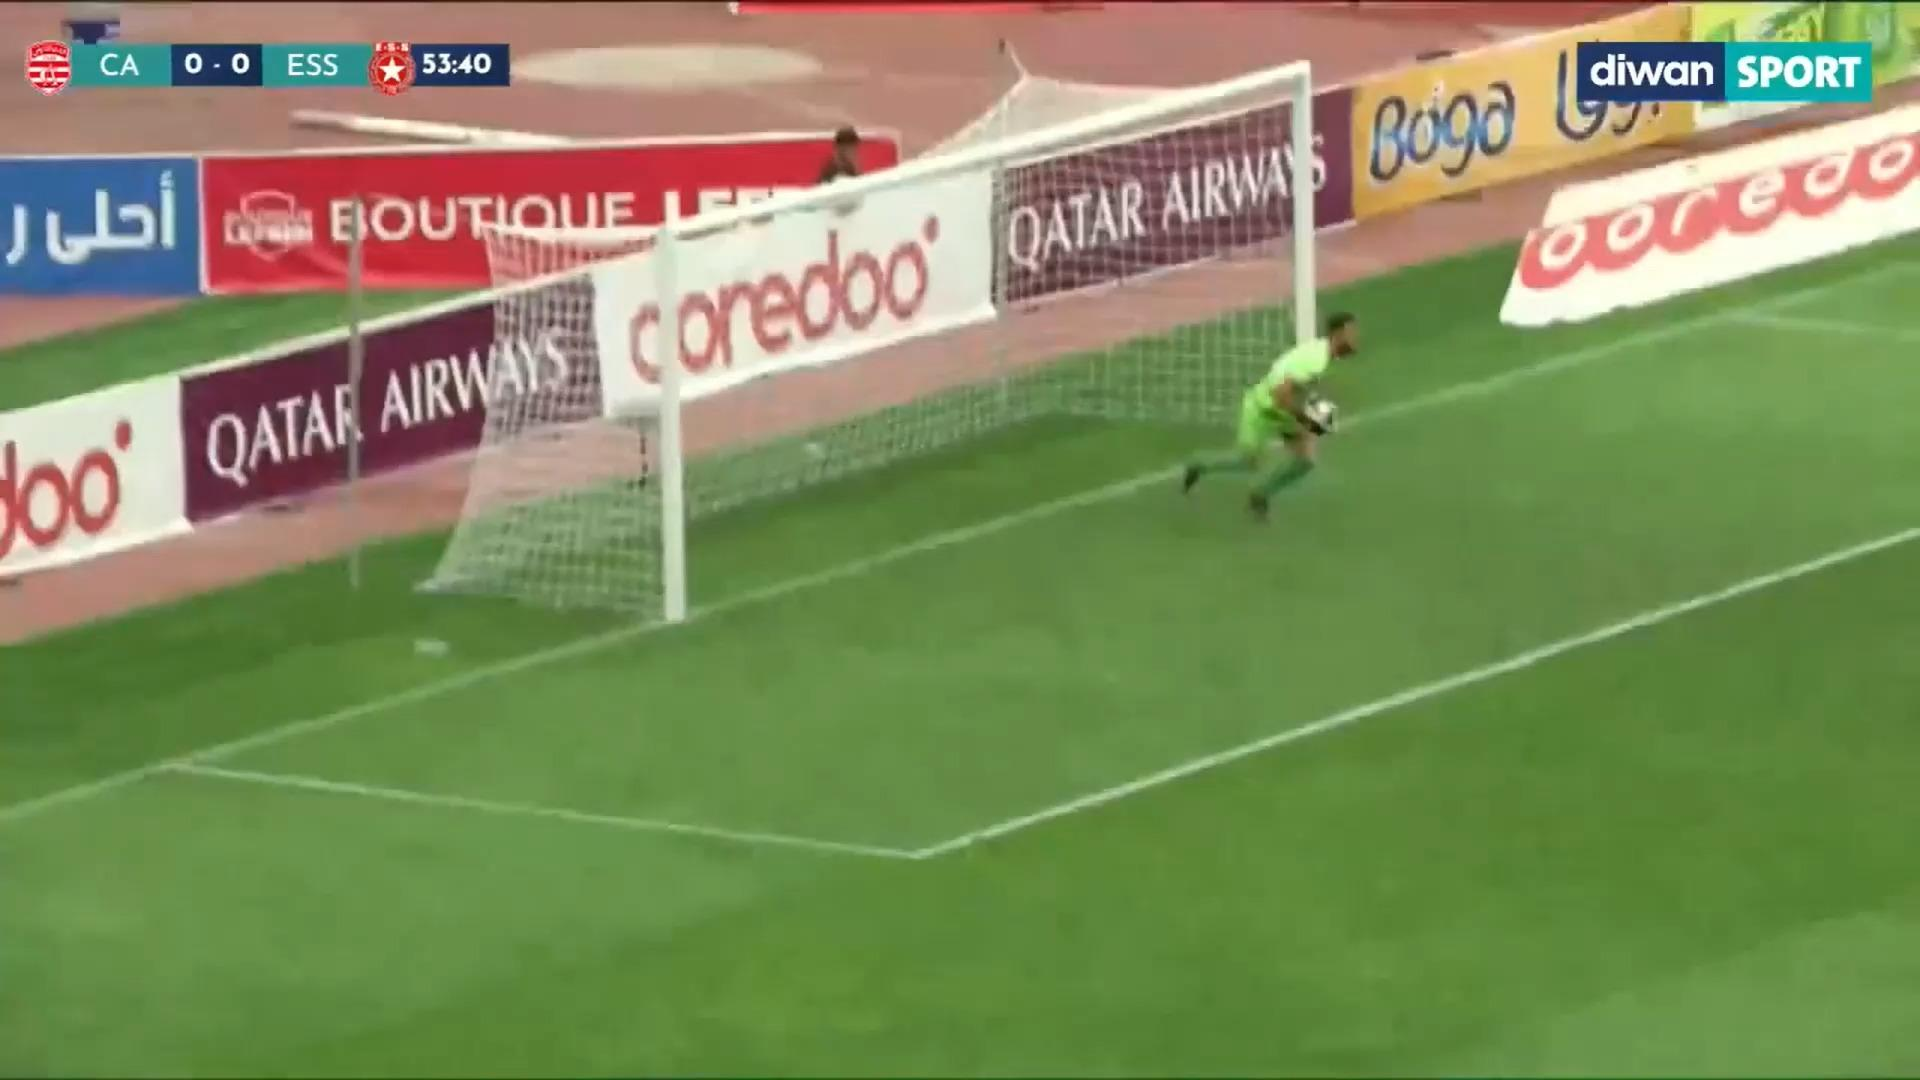ball: (1295, 393, 1364, 436)
goalkeeper: (1178, 261, 1344, 580)
